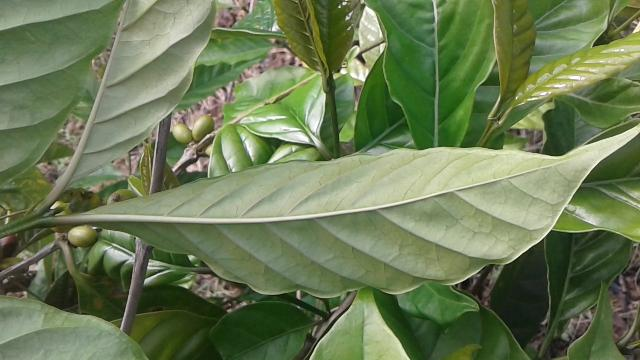healthy: (66, 123, 640, 297)
